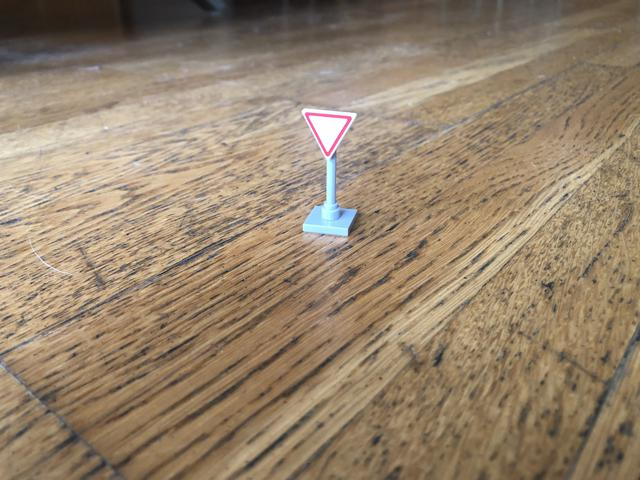vorfahrt gewähren: (300, 106, 356, 162)
